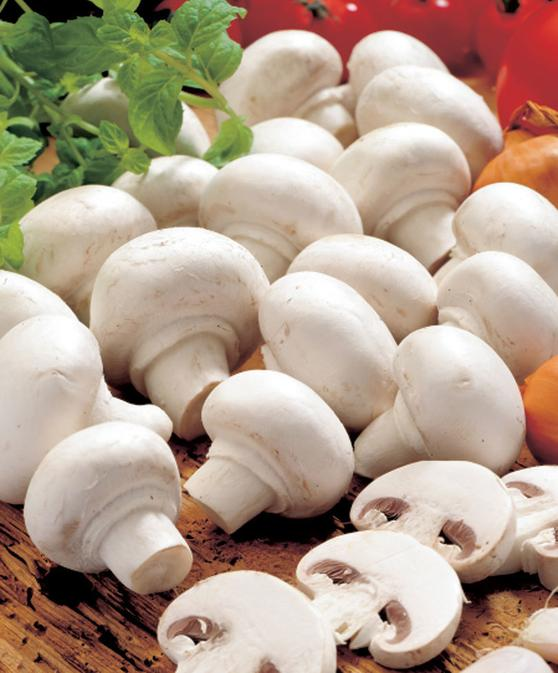champignon: (30, 428, 197, 590), (188, 374, 349, 527), (300, 525, 468, 666)
